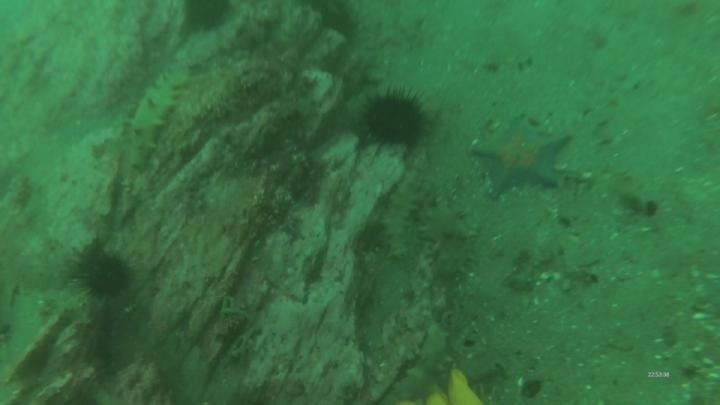echinus: (357, 86, 432, 152), (71, 244, 136, 303), (179, 1, 237, 36)
holothurian: (122, 67, 190, 172), (413, 187, 479, 281), (392, 320, 456, 404), (377, 174, 424, 262)
starfish: (469, 112, 573, 198)
